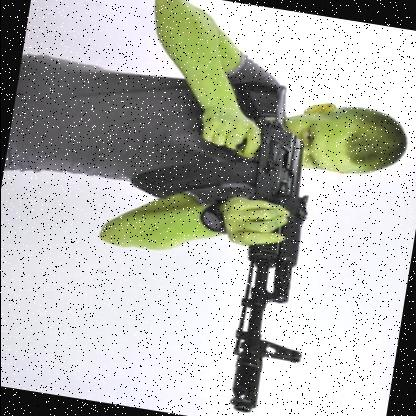rifle: (114, 66, 333, 416)
